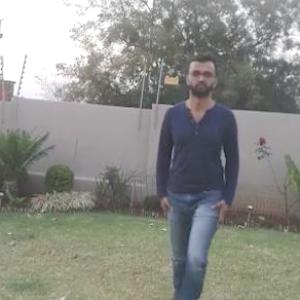follow: (156, 62, 235, 299)
